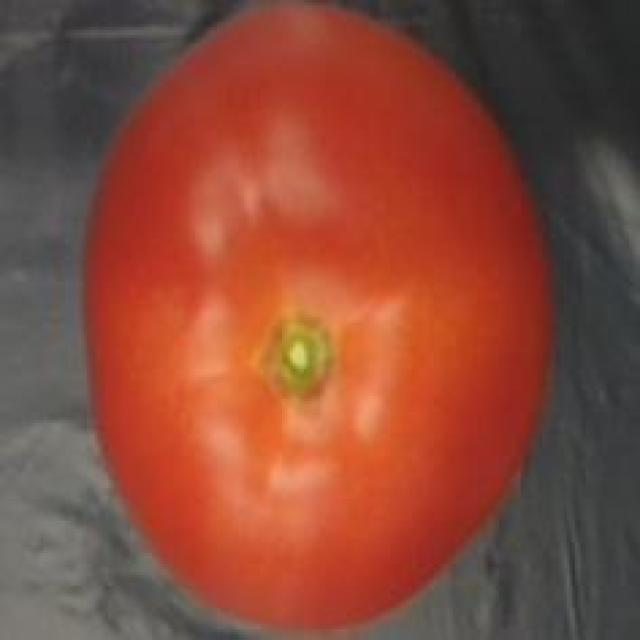ripe tomato: (70, 0, 562, 640)
